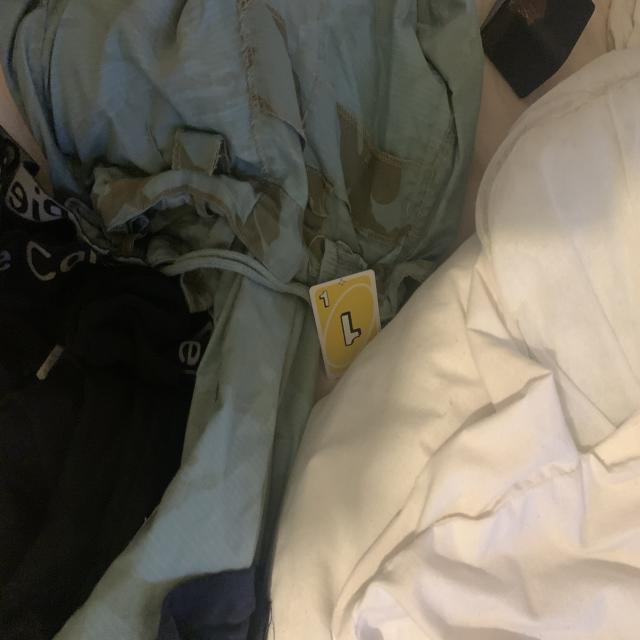lyellow-1: (316, 288, 336, 312)
